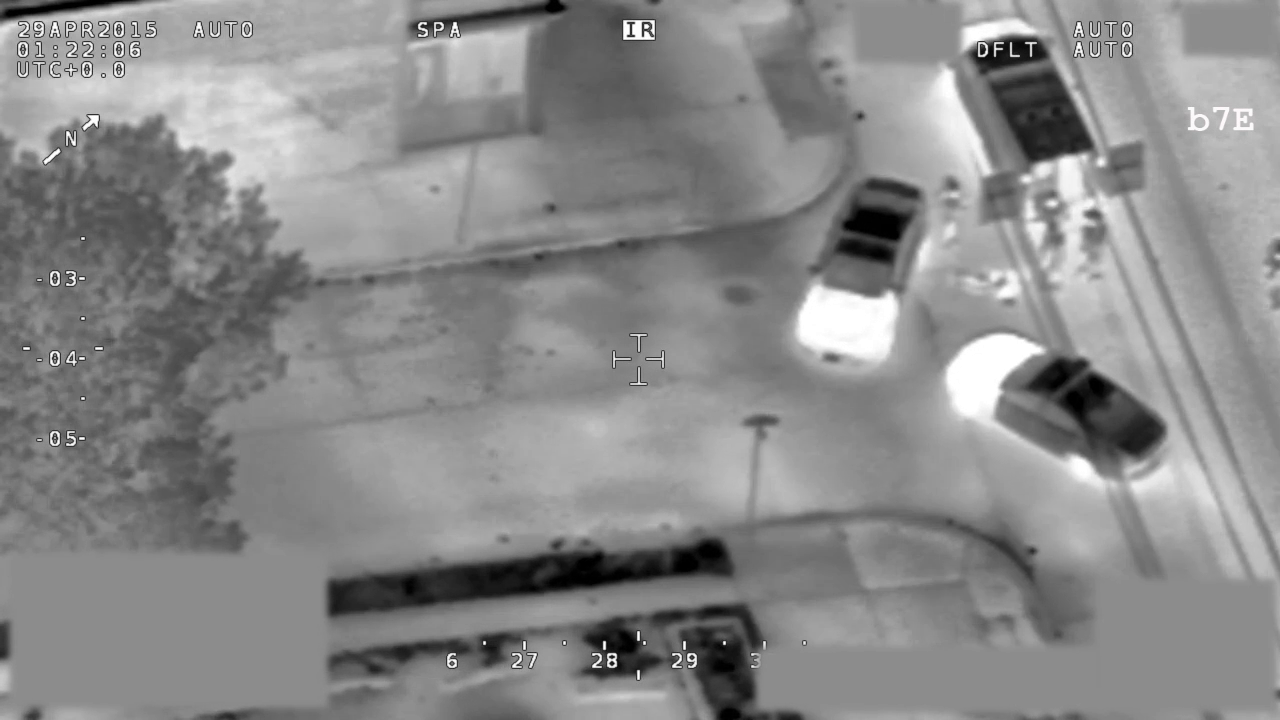vehicle: (946, 13, 1149, 222), (943, 325, 1173, 495), (791, 169, 944, 373)
